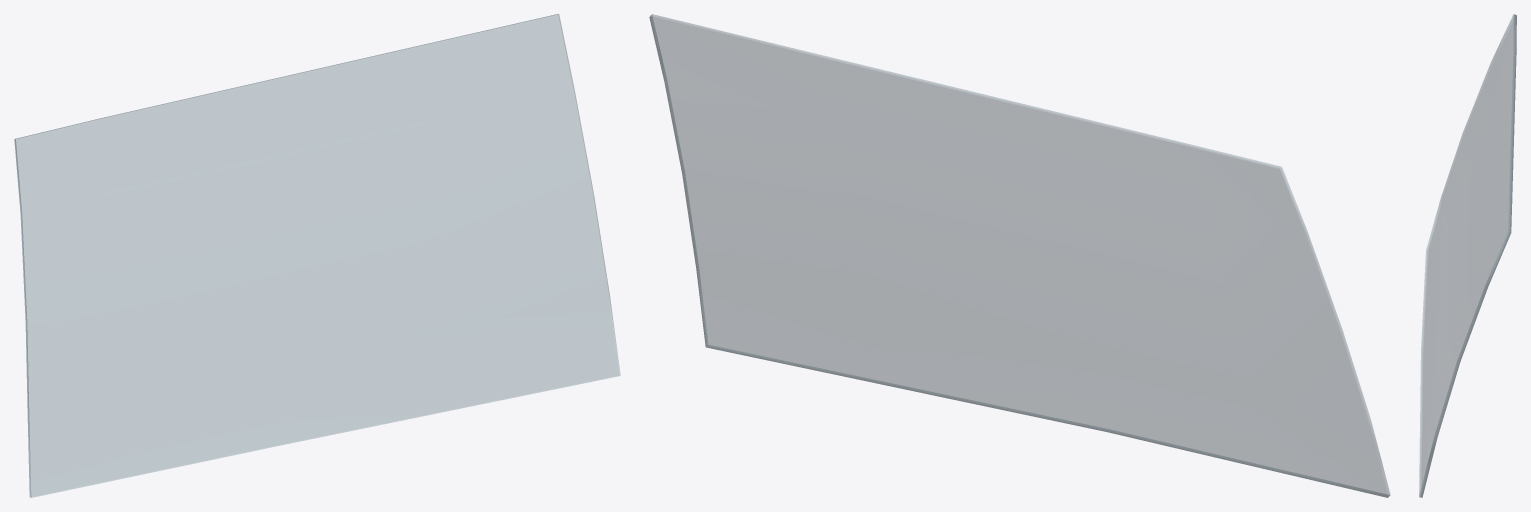
The picture shows the model from 3 angles, left to right: view 1: azimuth 30°, elevation 25°; view 2: azimuth 150°, elevation 25°; view 3: azimuth 270°, elevation 25°; orthographic projection. The views are drawn at different scales.
Parts seen in each view (by area): view 1: SM_NissanPatrol_Door_RR_Glass_Ext2; view 2: SM_NissanPatrol_Door_RR_Glass_Ext2; view 3: SM_NissanPatrol_Door_RR_Glass_Ext2.
Boxes of the visible parts, x1,y1,x2,y2 form: SM_NissanPatrol_Door_RR_Glass_Ext2: (14,14,620,497); SM_NissanPatrol_Door_RR_Glass_Ext2: (649,14,1390,497); SM_NissanPatrol_Door_RR_Glass_Ext2: (1419,14,1516,497).
Size of the model in its own units: 0.9378 by 0.5026 by 0.1669.
